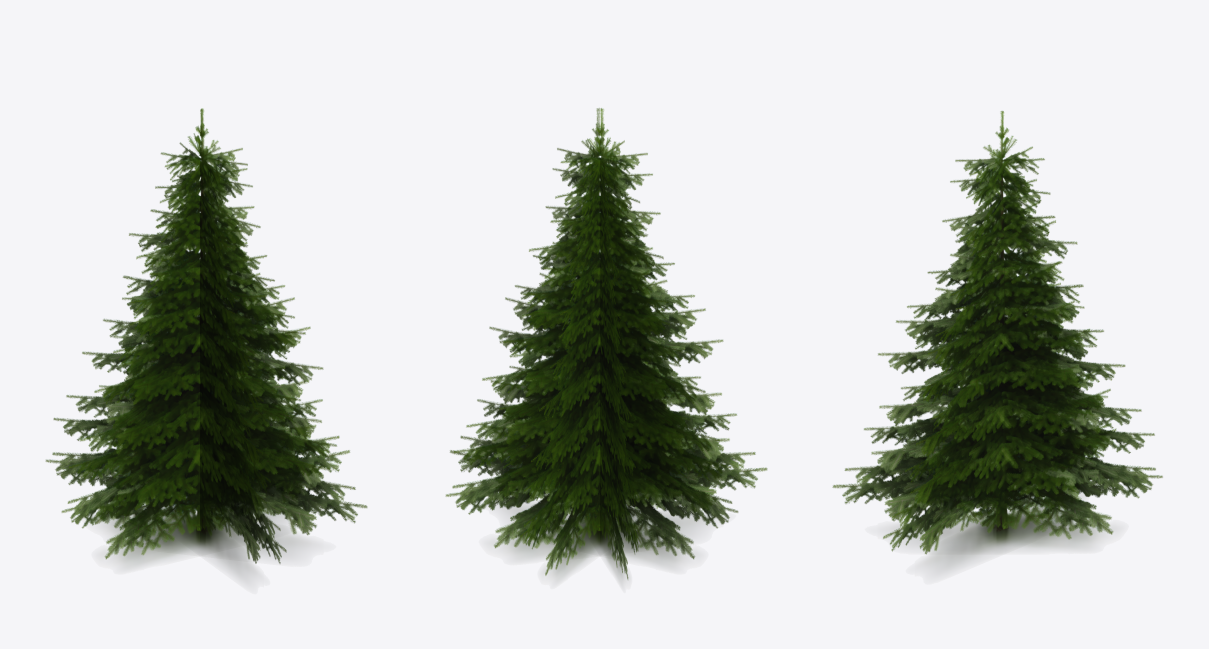
The model's file is spruce.glb.
3 views of the same model, side by side, from view 1: azimuth 30°, elevation 25°; view 2: azimuth 150°, elevation 25°; view 3: azimuth 270°, elevation 25° (orthographic).
Parts seen in each view (by area): view 1: 26e72b74f5a97b0edf8d6f980e9d8863_upscayl_1x_realesrgan-x4pl; view 2: 26e72b74f5a97b0edf8d6f980e9d8863_upscayl_1x_realesrgan-x4pl; view 3: 26e72b74f5a97b0edf8d6f980e9d8863_upscayl_1x_realesrgan-x4pl.
Boxes of the visible parts, box(x1,y1,x2,y2) form: 26e72b74f5a97b0edf8d6f980e9d8863_upscayl_1x_realesrgan-x4pl: box(46, 108, 367, 574); 26e72b74f5a97b0edf8d6f980e9d8863_upscayl_1x_realesrgan-x4pl: box(446, 108, 767, 579); 26e72b74f5a97b0edf8d6f980e9d8863_upscayl_1x_realesrgan-x4pl: box(832, 111, 1162, 566).
Bounding box in the file's own units: 11.2 × 14.93 × 11.2.
Materials: 1 (1 with a texture image).
